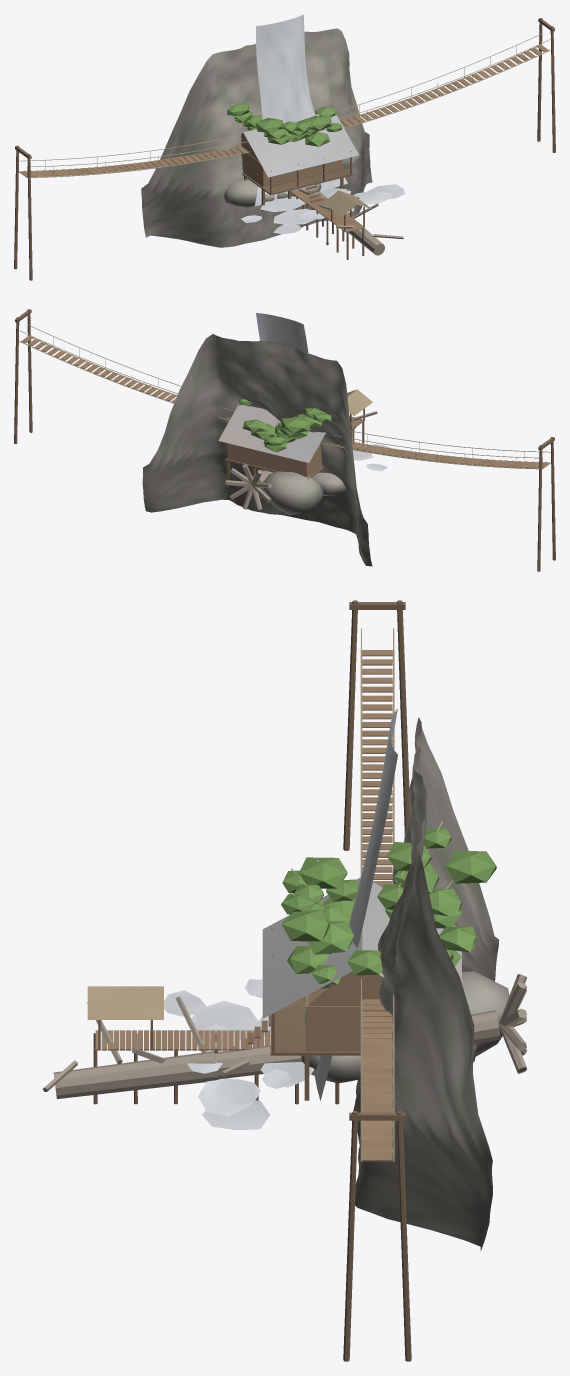
The model's file is deras_kit.glb.
3 renders of one model, top to bottom at view 1: azimuth 30°, elevation 25°; view 2: azimuth 150°, elevation 25°; view 3: azimuth 270°, elevation 25°, orthographic. The views are drawn at different scales.
Visible parts, largest first — view 1: waterfall, rope_bridge, kampung_house, bamboo, jetty, river_boulders, fallen_tree; view 2: waterfall, rope_bridge, kampung_house, river_boulders, bamboo, fallen_tree, jetty; view 3: waterfall, rope_bridge, bamboo, kampung_house, fallen_tree, jetty, river_boulders.
Part boxes in pixels (x1,y1,x2,y2): waterfall: (141, 14, 405, 247); rope_bridge: (14, 18, 555, 280); kampung_house: (237, 114, 358, 211); bamboo: (227, 104, 342, 146); jetty: (287, 190, 372, 259); river_boulders: (224, 179, 321, 207); fallen_tree: (297, 188, 403, 255); waterfall: (142, 313, 392, 566); rope_bridge: (14, 309, 555, 571); kampung_house: (218, 405, 357, 480); river_boulders: (258, 470, 346, 515); bamboo: (239, 399, 331, 452); fallen_tree: (225, 411, 377, 510); jetty: (266, 389, 372, 502); waterfall: (164, 708, 499, 1250); rope_bridge: (343, 600, 411, 1361); bamboo: (281, 821, 496, 988); kampung_house: (233, 877, 461, 1100); fallen_tree: (43, 974, 527, 1098); jetty: (87, 986, 339, 1104); river_boulders: (301, 971, 509, 1083).
Bounding box in the file's own units: 60.3 × 22.46 × 24.06.
